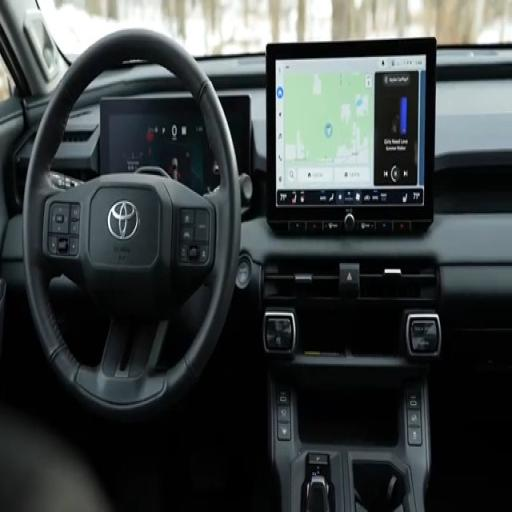emblem: (108, 201, 139, 240)
windshield: (38, 0, 511, 59)
